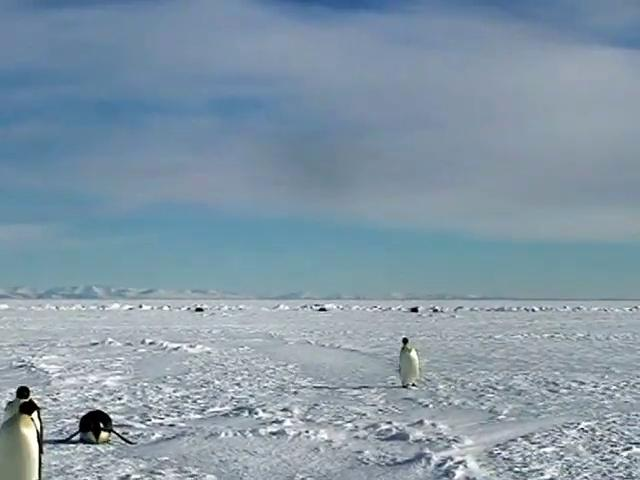animal: (46, 411, 137, 445)
